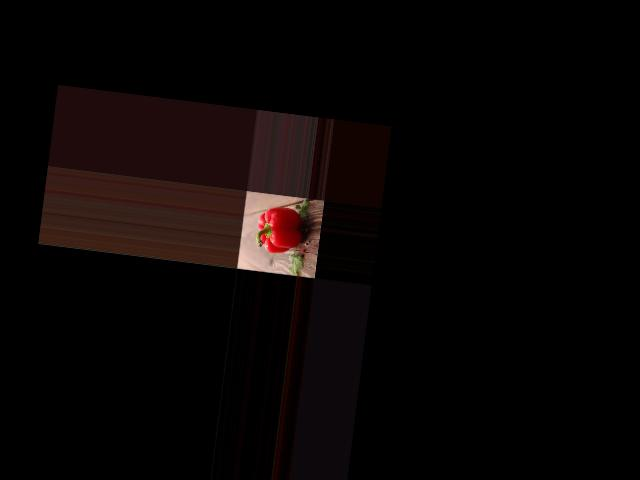bell_pepper: (250, 201, 306, 258)
